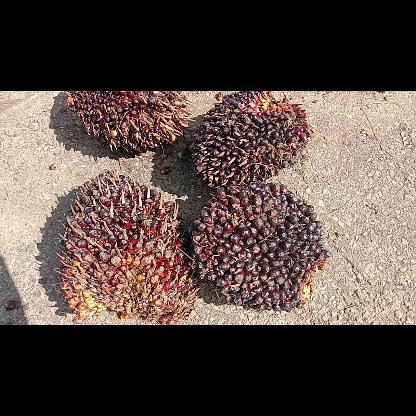TBS mentah: (53, 168, 201, 324), (192, 181, 330, 311), (189, 90, 311, 188), (66, 91, 194, 153)
